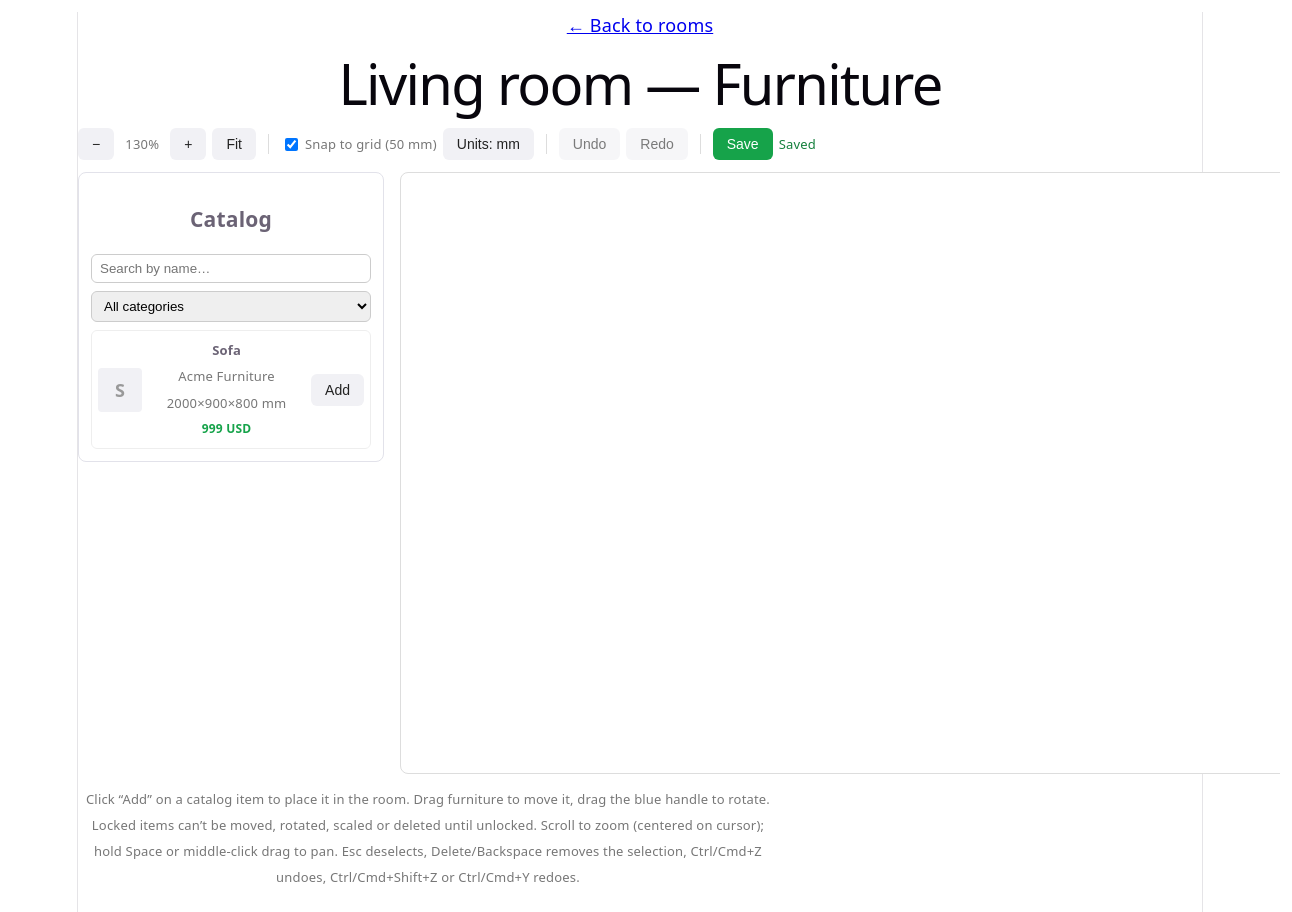
RoomFurniturePage › shows save-failed status and validation issues when saving is rejected
Expected: the text "Sofa" is shown, x1=212 y1=341 x2=241 y2=359
What coordinates should you click on to do the following:
click the button "Add"
I would click on:
 (338, 390)
Its box is x1=311 y1=374 x2=364 y2=406.
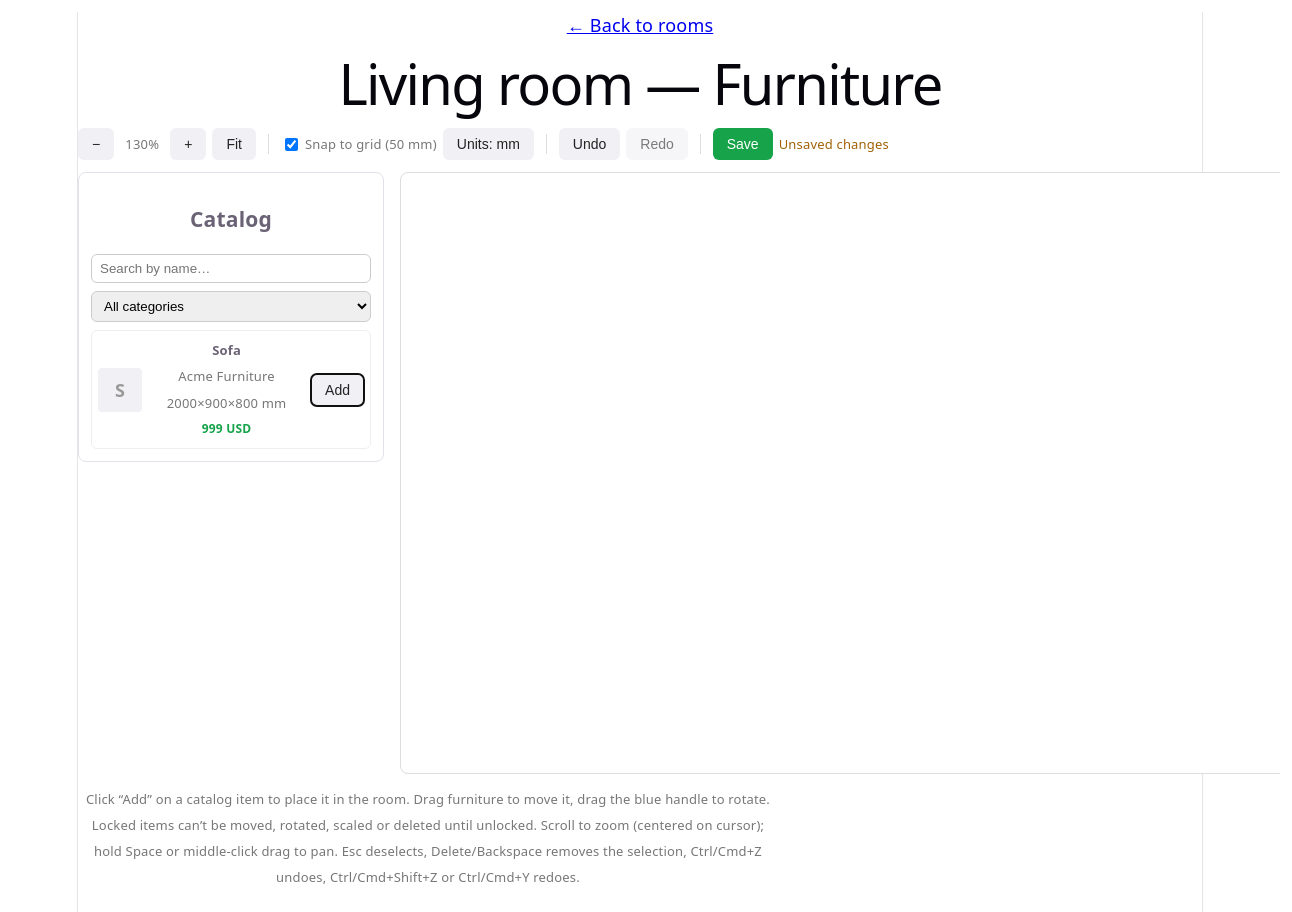
What coordinates should you click on to do the following:
click the button "Save"
I would click on:
 (743, 144)
Its box is x1=713 y1=128 x2=773 y2=160.
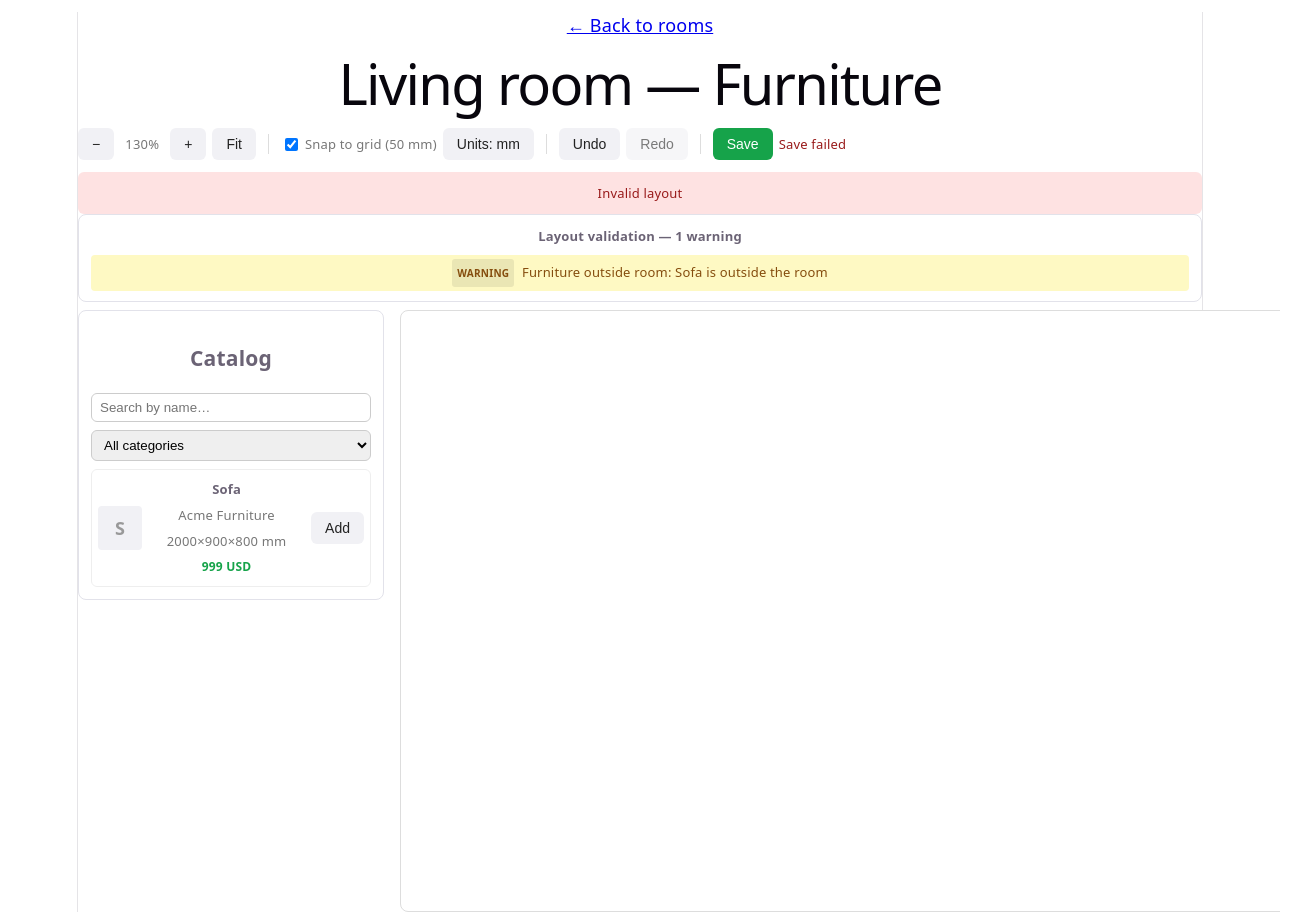
Now the text "Save failed" is shown, box x1=779 y1=131 x2=846 y2=157
Now the text "Layout validation — 1 warning" is shown, box x1=538 y1=227 x2=742 y2=245
Now the list item "WARNING Furniture outside room: Sofa is outside the room" is shown, box x1=91 y1=255 x2=1189 y2=292
